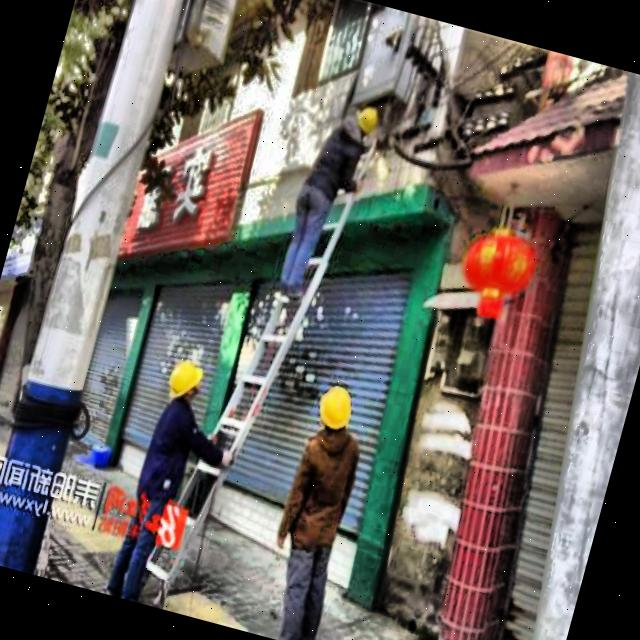helmet: (309, 378, 359, 444), (160, 352, 206, 408), (342, 98, 382, 149)
